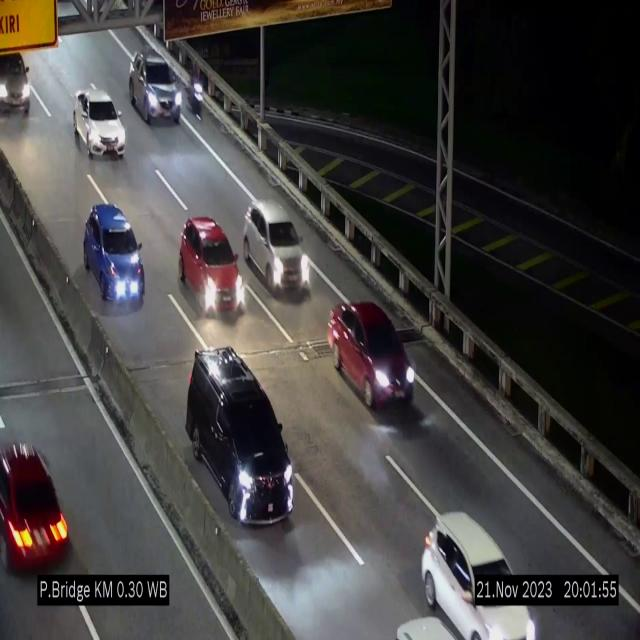Car: (189, 345, 299, 539), (410, 506, 532, 640), (0, 430, 75, 585), (326, 293, 416, 414), (240, 196, 312, 310), (176, 214, 247, 322), (84, 203, 144, 306), (129, 53, 181, 124), (74, 88, 126, 158), (0, 41, 34, 121)
Motorcycle: (188, 63, 208, 129)
